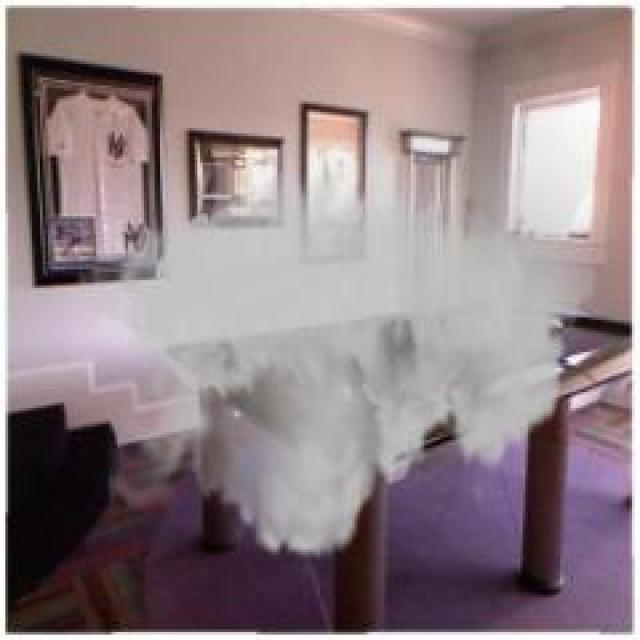smoke: (74, 12, 610, 580)
